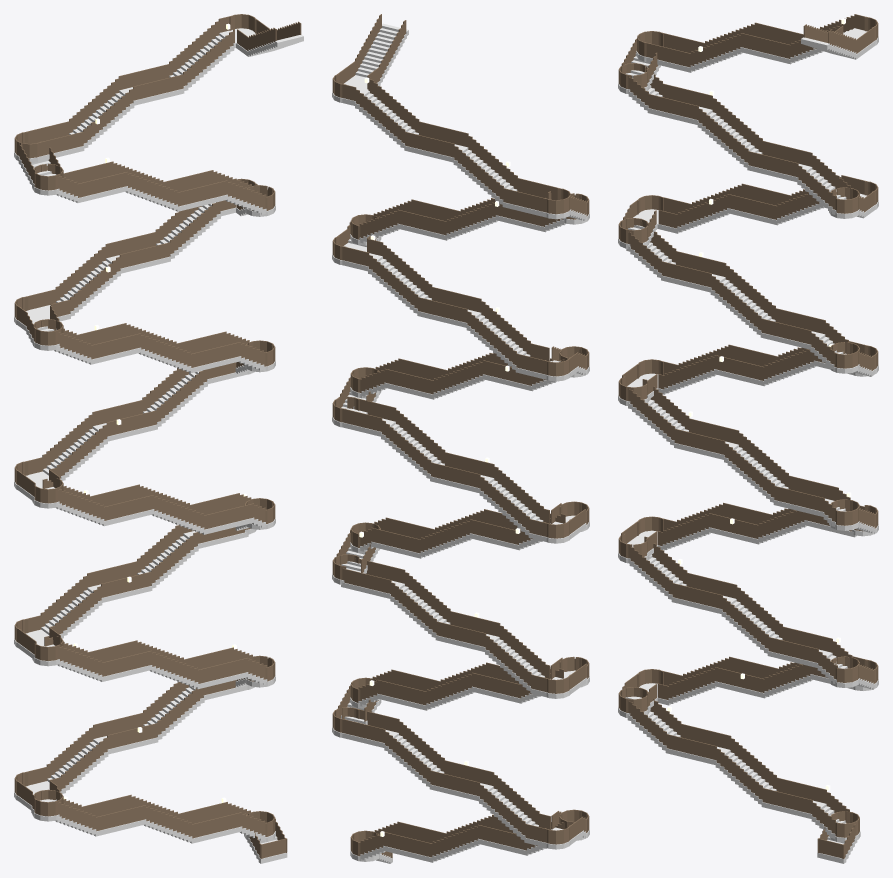
The picture shows the model from 3 angles, left to right: view 1: azimuth 30°, elevation 25°; view 2: azimuth 150°, elevation 25°; view 3: azimuth 330°, elevation 25°; orthographic projection.
Parts seen in each view (by area): view 1: c_cliff_stair_4_rail_rail, c_cliff_stair_4_stair_wood; view 2: c_cliff_stair_4_rail_rail, c_cliff_stair_4_stair_wood; view 3: c_cliff_stair_4_rail_rail, c_cliff_stair_4_stair_wood.
Boxes of the visible parts, left/top/right/bottom form: c_cliff_stair_4_rail_rail: left=14, top=14, right=301, bottom=858; c_cliff_stair_4_stair_wood: left=14, top=28, right=303, bottom=863; c_cliff_stair_4_rail_rail: left=332, top=14, right=589, bottom=857; c_cliff_stair_4_stair_wood: left=332, top=23, right=589, bottom=863; c_cliff_stair_4_rail_rail: left=618, top=14, right=878, bottom=858; c_cliff_stair_4_stair_wood: left=618, top=28, right=878, bottom=863.
Size of the model in its own units: 18.08 by 61.01 by 7.46.
